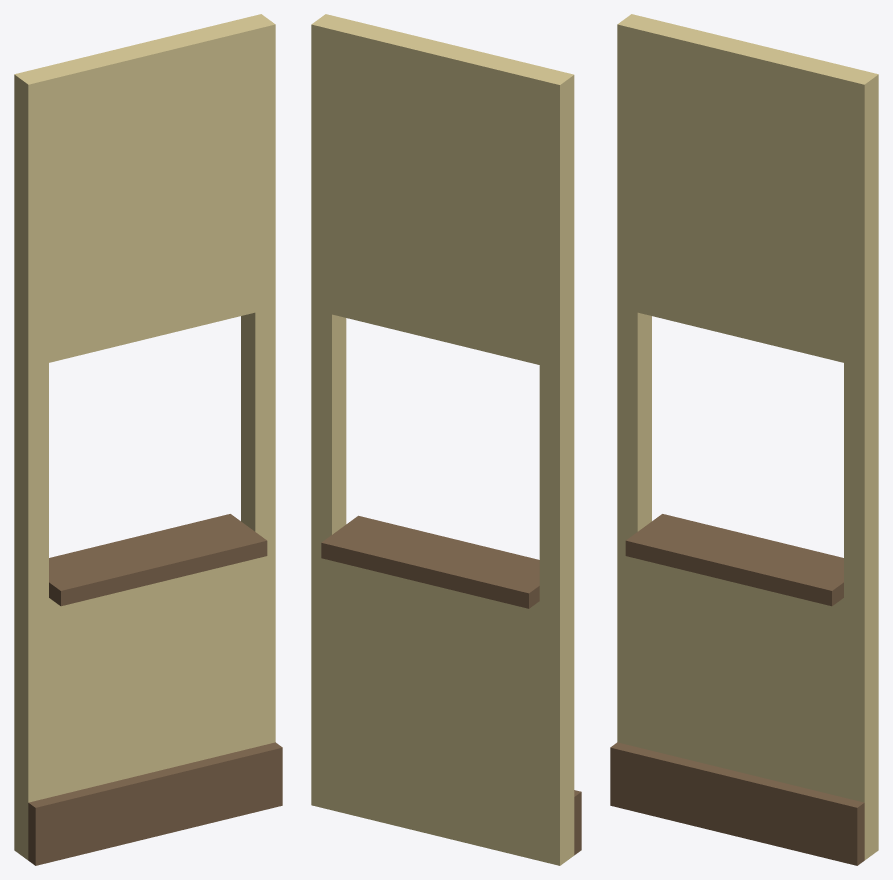
File: Mesh_WallBaseboard_I2.fbx
3 renders of one model, left to right at view 1: azimuth 30°, elevation 25°; view 2: azimuth 150°, elevation 25°; view 3: azimuth 330°, elevation 25°, orthographic.
Parts seen in each view (by area): view 1: Mesh_WallBaseboard_I2; view 2: Mesh_WallBaseboard_I2; view 3: Mesh_WallBaseboard_I2.
Boxes of the visible parts, x1,y1,x2,y2 form: Mesh_WallBaseboard_I2: [14, 14, 282, 865]; Mesh_WallBaseboard_I2: [311, 14, 581, 865]; Mesh_WallBaseboard_I2: [610, 14, 878, 865].
Bounding box in the file's own units: 1 × 3 × 0.2574.
